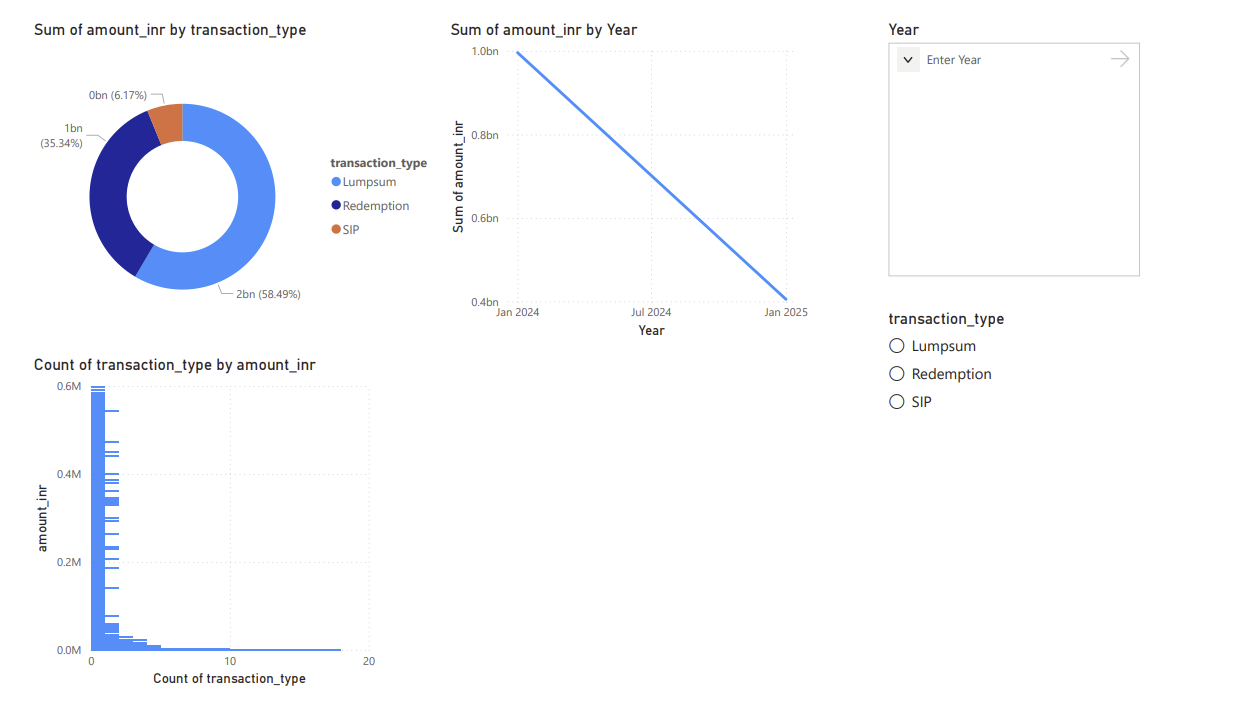

The page's visual inventory and layout, read from the dashboard file:
{"tool":"powerbi","page":{"name":"Investor Analytics","canvas":[1280,720],"ordinal":2},"visuals":[{"type":"donutChart","fields":{"Category":["clean_transactions.transaction_type"],"Y":["Sum(clean_transactions.amount_inr)"]},"box":[10,0,447.1,360],"z":0},{"type":"barChart","fields":{"Y":["CountNonNull(clean_transactions.transaction_type)"],"Category":["clean_transactions.amount_inr"]},"box":[10,360,375.7,360],"z":1},{"type":"lineChart","fields":{"Category":["clean_transactions.transaction_date.Variation.Date Hierarchy.Year","clean_transactions.transaction_date.Variation.Date Hierarchy.Quarter","clean_transactions.transaction_date.Variation.Date Hierarchy.Month","clean_transactions.transaction_date.Variation.Date Hierarchy.Day"],"Y":["Sum(clean_transactions.amount_inr)"]},"box":[457.1,0,394.3,345.7],"z":2},{"type":"listSlicer","fields":{"Values":["clean_transactions.transaction_type"]},"box":[927.1,310,280,327.1],"z":3},{"type":"textSlicer","fields":{"Values":["clean_transactions.transaction_date.Variation.Date Hierarchy.Year"]},"box":[927.1,0,280,280],"z":4}]}

Visuals, with their boxes in screenshot pixels (x1, y1, x2, y2), scaled from the page's 1280x720 canvas onto the 1233x712 screenshot:
donutChart - clean_transactions.transaction_type x Sum(clean_transactions.amount_inr): rect(10, 0, 440, 356)
barChart - CountNonNull(clean_transactions.transaction_type) x clean_transactions.amount_inr: rect(10, 356, 372, 711)
lineChart - clean_transactions.transaction_date.Variation.Date Hierarchy.Year x clean_transactions.transaction_date.Variation.Date Hierarchy.Quarter: rect(440, 0, 820, 342)
listSlicer - clean_transactions.transaction_type: rect(893, 307, 1163, 630)
textSlicer - clean_transactions.transaction_date.Variation.Date Hierarchy.Year: rect(893, 0, 1163, 277)
